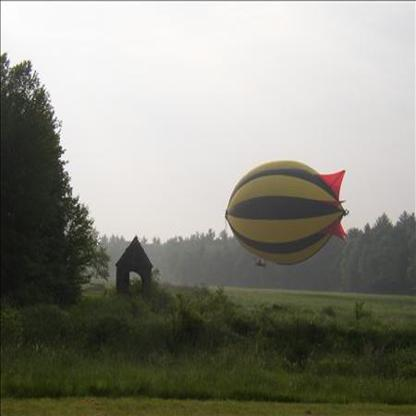Airship: (223, 161, 357, 269)
